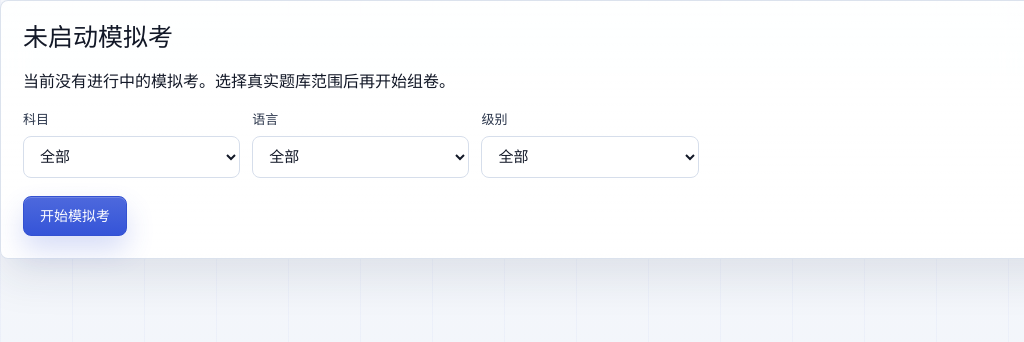
Scenario: ExamPage › defaults exam filters to all but requires a concrete source before starting
Expected: the heading "未启动模拟考" is shown, [23, 21, 173, 54]
Expected: the dropdown labelled "科目" shows "全部", [23, 136, 240, 178]
Click the button "开始模拟考". click: (75, 216)
box: [23, 196, 127, 236]
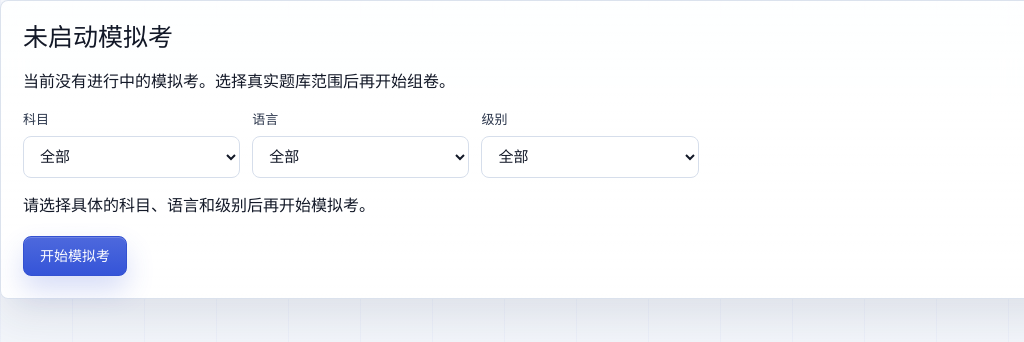
Expected: the message shows "请选择具体的科目、语言和级别后再开始模拟考", [23, 195, 375, 216]
